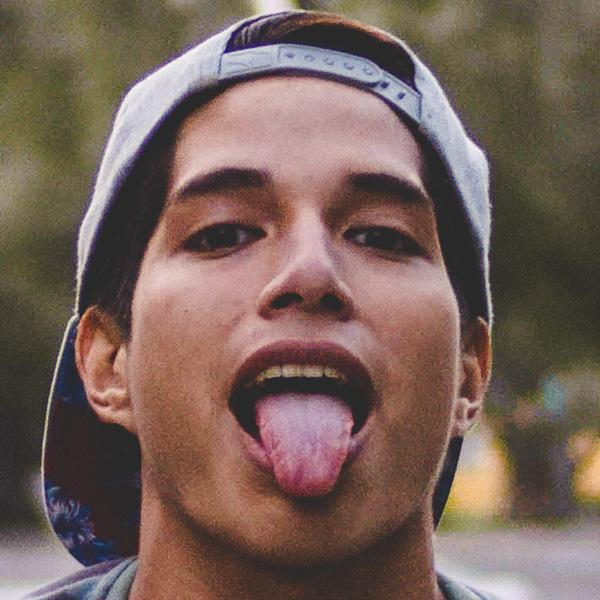Eyes: (175, 195, 279, 264), (338, 199, 432, 269)
